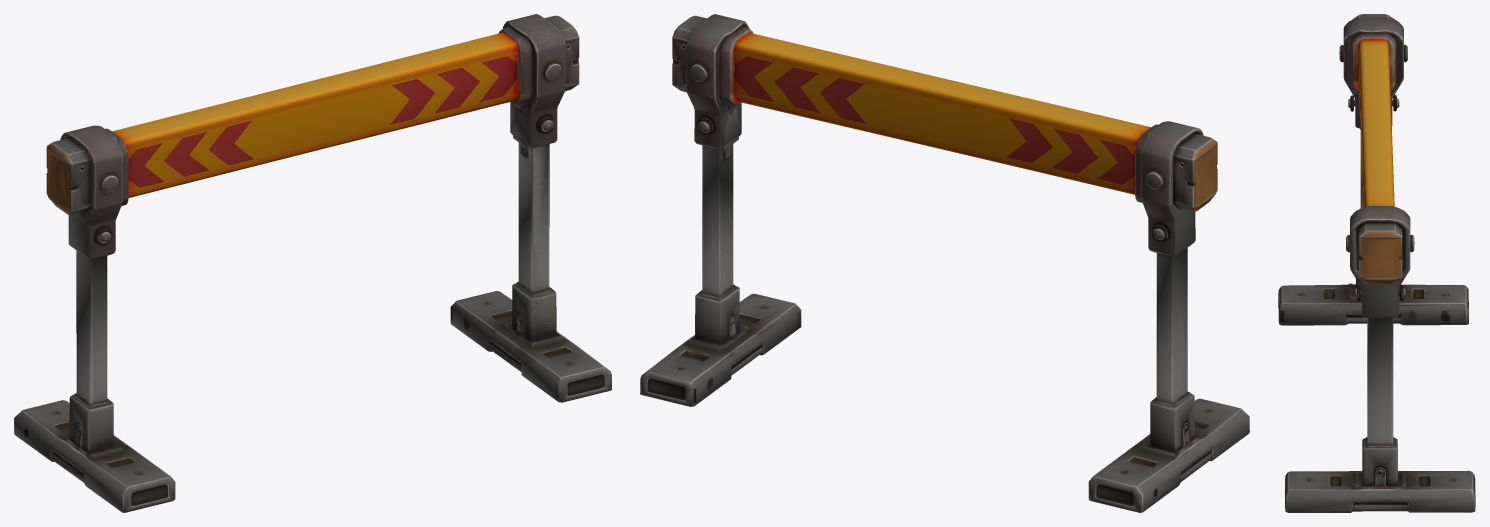
Rendered from selected.fbx.
3 views of the same model, side by side, from view 1: azimuth 30°, elevation 25°; view 2: azimuth 150°, elevation 25°; view 3: azimuth 270°, elevation 25° (orthographic). The views are drawn at different scales.
Parts seen in each view (by area): view 1: tripo_node_17b6a55f-11ee-4cce-9331-e9d2c7efb04c; view 2: tripo_node_17b6a55f-11ee-4cce-9331-e9d2c7efb04c; view 3: tripo_node_17b6a55f-11ee-4cce-9331-e9d2c7efb04c.
Boxes of the visible parts, x1,y1,x2,y2 form: tripo_node_17b6a55f-11ee-4cce-9331-e9d2c7efb04c: (14,14,611,512); tripo_node_17b6a55f-11ee-4cce-9331-e9d2c7efb04c: (640,14,1249,512); tripo_node_17b6a55f-11ee-4cce-9331-e9d2c7efb04c: (1278,14,1475,512).
Size of the model in its own units: 0.9995 by 0.6147 by 0.3784.
Materials: 1 (1 with a texture image).
